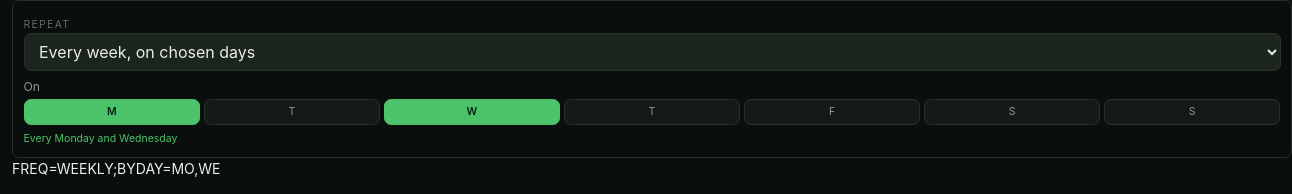
the weekday toggles › removes a day that is clicked again
This screenshot has width=1292, height=194.
What coordinates should you click on to do the following:
click the button named "Monday"
I would click on:
 (112, 112)
Its box is [24,98,200,125].
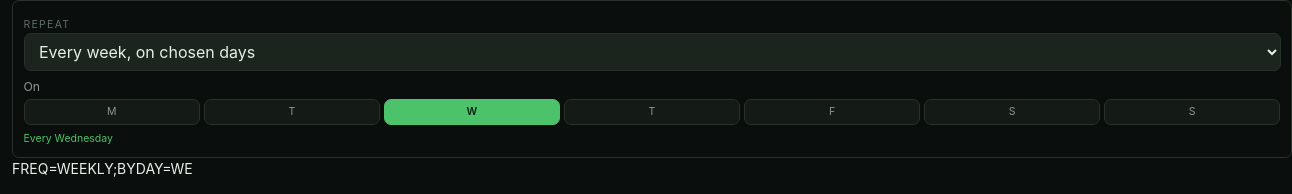
Check: the text with test id "rule" reads "FREQ=WEEKLY;BYDAY=WE", box [12,160,193,176]
